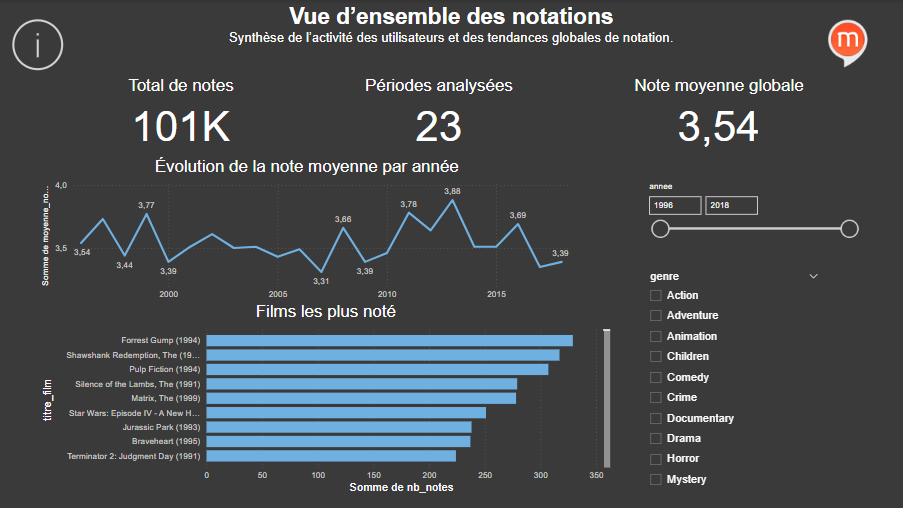

This screenshot's page, from the dashboard's own definition file:
{"tool":"powerbi","page":{"name":"Vue d’ensemble","canvas":[1280,720],"ordinal":0},"visuals":[{"type":"card","title":"Total de notes","fields":{"Values":["Sum(public vue_notes_par_annee.nb_votes)"]},"box":[126.5,105.7,260.5,107.2],"z":0},{"type":"card","title":"Périodes analysées","fields":{"Values":["Count(public vue_notes_par_annee.annee)"]},"box":[491.2,105.7,260.5,107.2],"z":1000},{"type":"card","title":"Note moyenne globale","fields":{"Values":["Avg(public vue_notes_par_annee.moyenne_notes)"]},"box":[888.6,105.7,260.5,107.2],"z":2000},{"type":"lineChart","title":"Évolution de la note moyenne par année","fields":{"Category":["public vue_notes_par_annee.annee"],"Y":["Sum(public vue_notes_par_annee.moyenne_notes)"]},"box":[54.1,220.8,761.7,223.1],"z":3000},{"type":"clusteredBarChart","title":"Films les plus noté","fields":{"Category":["public vue_top_films_notes (2).titre_film"],"Y":["Sum(public vue_top_films_notes (2).nb_notes)"]},"box":[54.1,425.9,815.8,277.2],"z":4000},{"type":"slicer","fields":{"Values":["public vue_notes_par_annee.annee"]},"box":[907.1,252,317.5,107.5],"z":5000},{"type":"slicer","fields":{"Values":["public dim_genres.genre"]},"box":[908.2,378.6,263.7,324.5],"z":6000},{"type":"textbox","box":[146.5,0,987,108.2],"z":7000},{"type":"textbox","title":"Zone_Analyse_P1","box":[838.2,359.5,344,235],"z":8000},{"type":"actionButton","title":"Button Retour","box":[8.4,16.8,89,90.7],"z":9000},{"type":"image","box":[1162.1,20.2,77.8,85],"z":11000}]}

Visuals, with their boxes in screenshot pixels (x1, y1, x2, y2), scaled from the page's 1280x720 canvas onto the 903x508 screenshot:
"Total de notes" card: 89:75:273:150
"Périodes analysées" card: 347:75:530:150
"Note moyenne globale" card: 627:75:811:150
"Évolution de la note moyenne par année" lineChart: 38:156:576:313
"Films les plus noté" clusteredBarChart: 38:300:614:496
slicer - public vue_notes_par_annee.annee: 640:178:864:254
slicer - public dim_genres.genre: 641:267:827:496
textbox: 103:0:800:76
"Zone_Analyse_P1" textbox: 591:254:834:419
"Button Retour" actionButton: 6:12:69:76
image: 820:14:875:74
